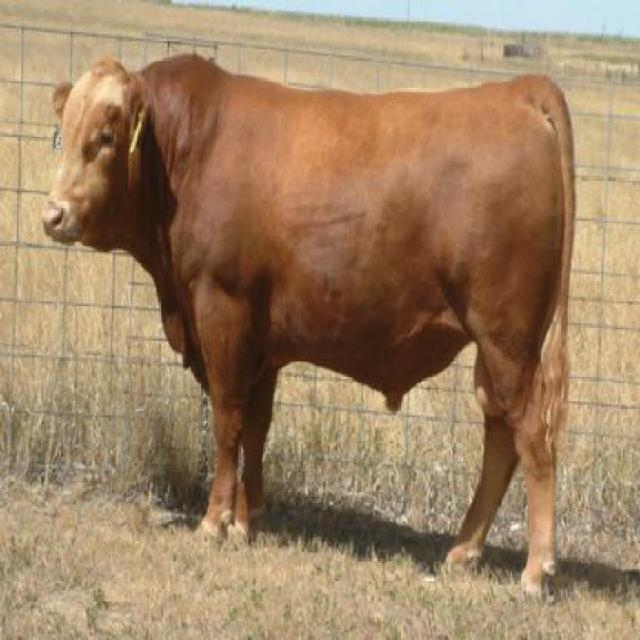Cow: (42, 51, 576, 602)
